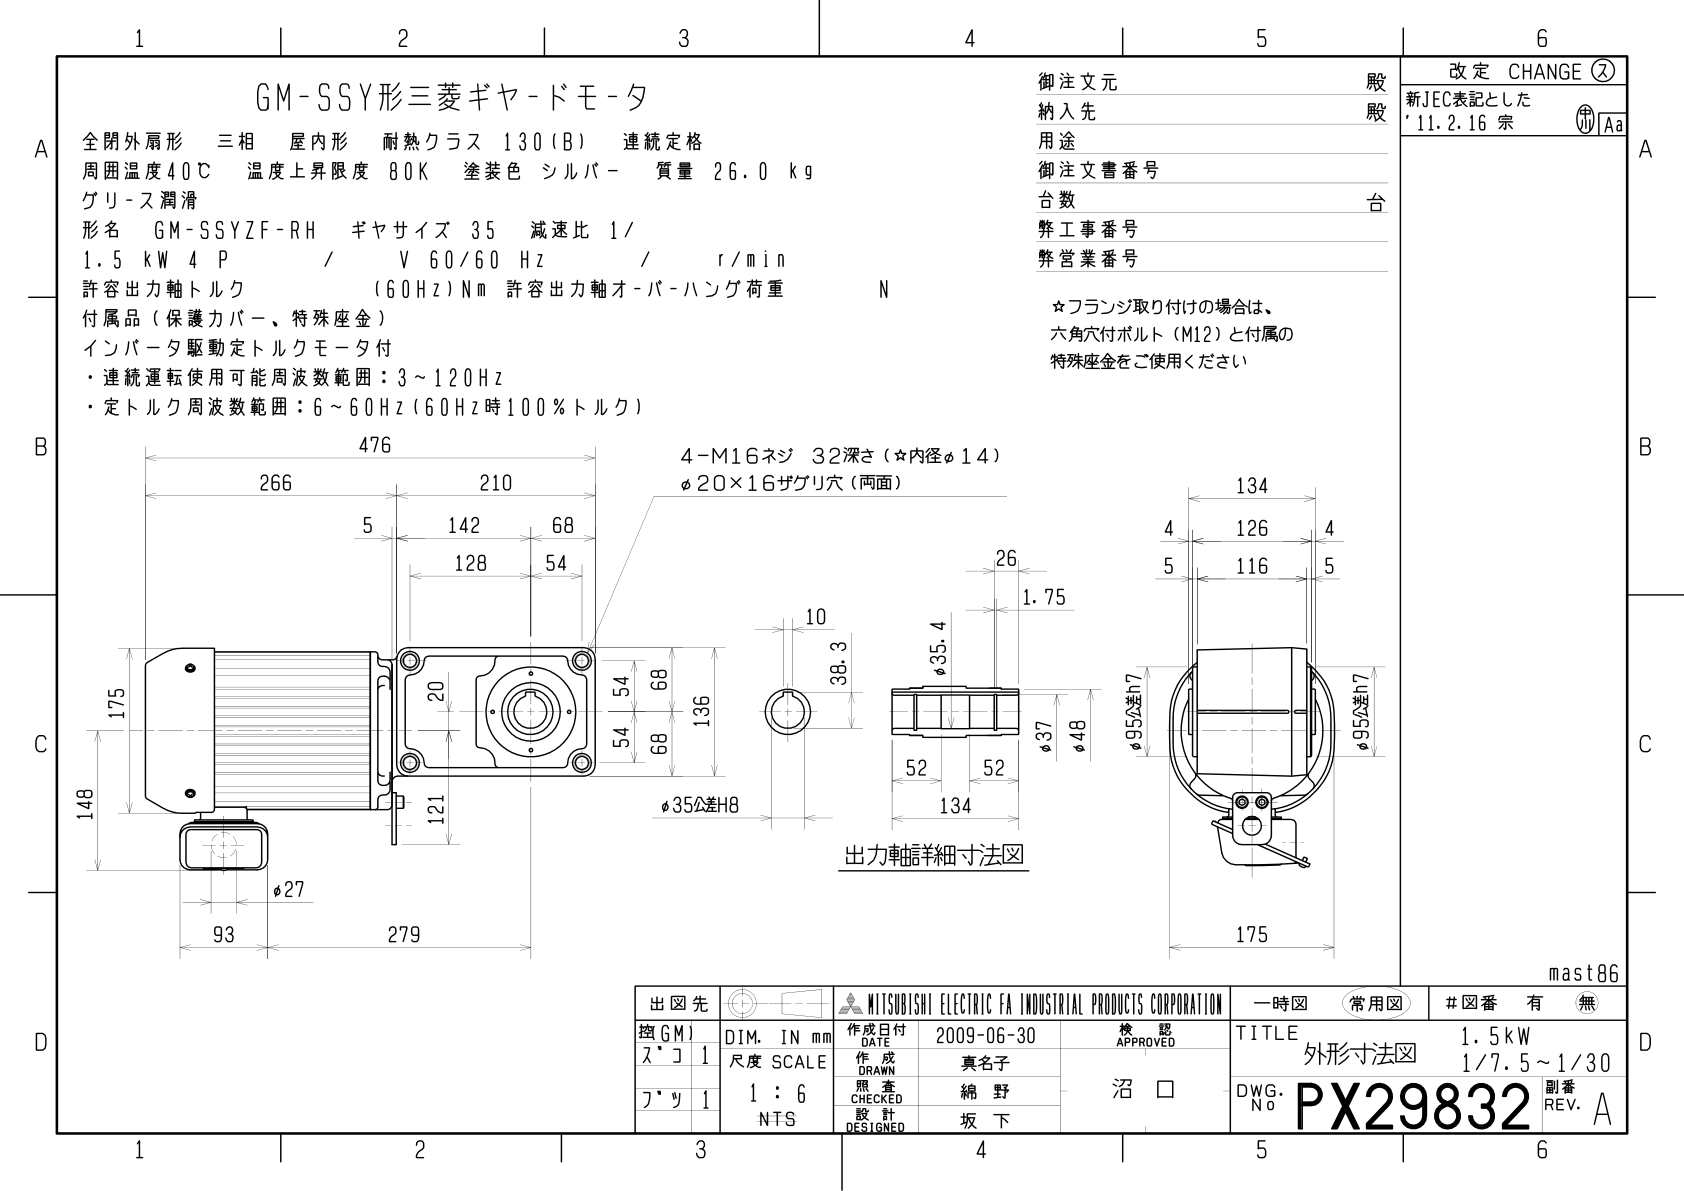GM_SSY_インバータ屋内_三相: (63, 424, 1392, 973)
